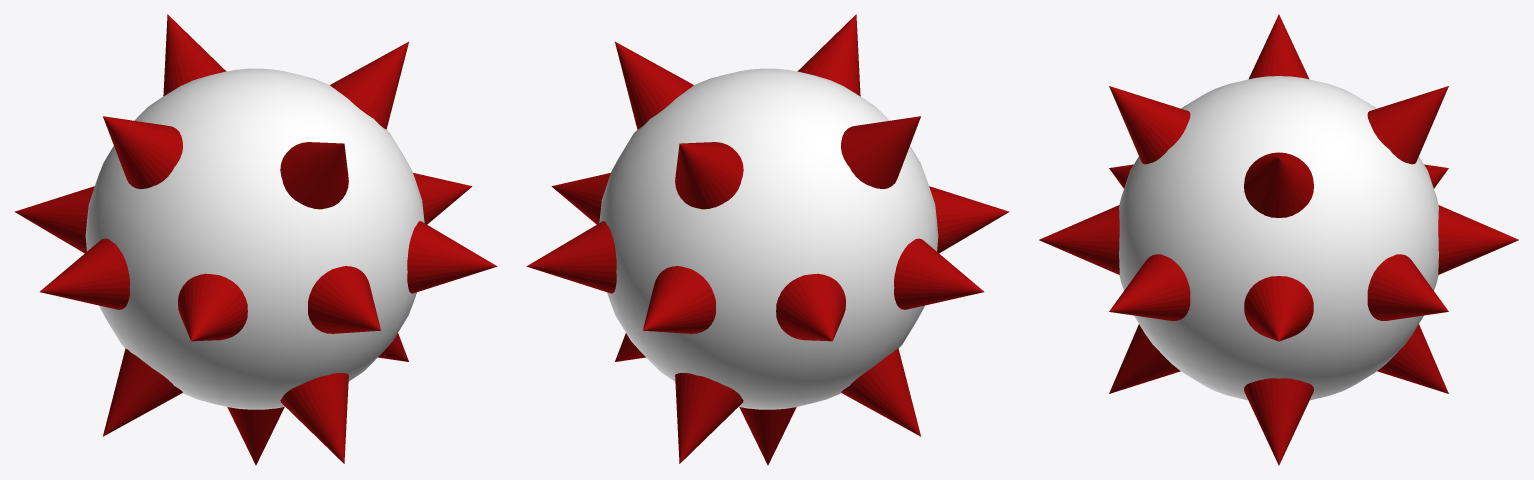
File: SpikeSphere.fbx
3 renders of one model, left to right at view 1: azimuth 30°, elevation 25°; view 2: azimuth 150°, elevation 25°; view 3: azimuth 270°, elevation 25°, orthographic. The views are drawn at different scales.
Parts seen in each view (by area): view 1: SpikeSphere; view 2: SpikeSphere; view 3: SpikeSphere.
Boxes of the visible parts, bbox=[...] form: SpikeSphere: bbox=[14, 14, 497, 465]; SpikeSphere: bbox=[526, 14, 1009, 465]; SpikeSphere: bbox=[1039, 14, 1518, 465].
Size of the model in its own units: 0.9523 by 0.9523 by 0.8128.
